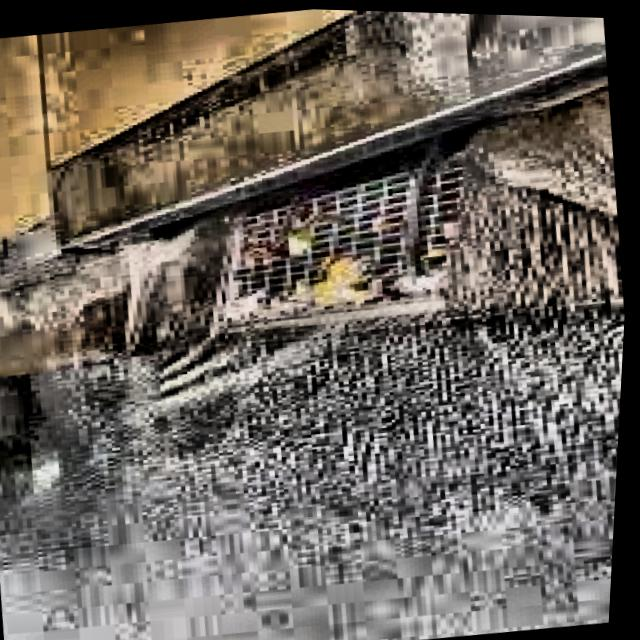Alligator Cracks: (213, 140, 460, 332)
